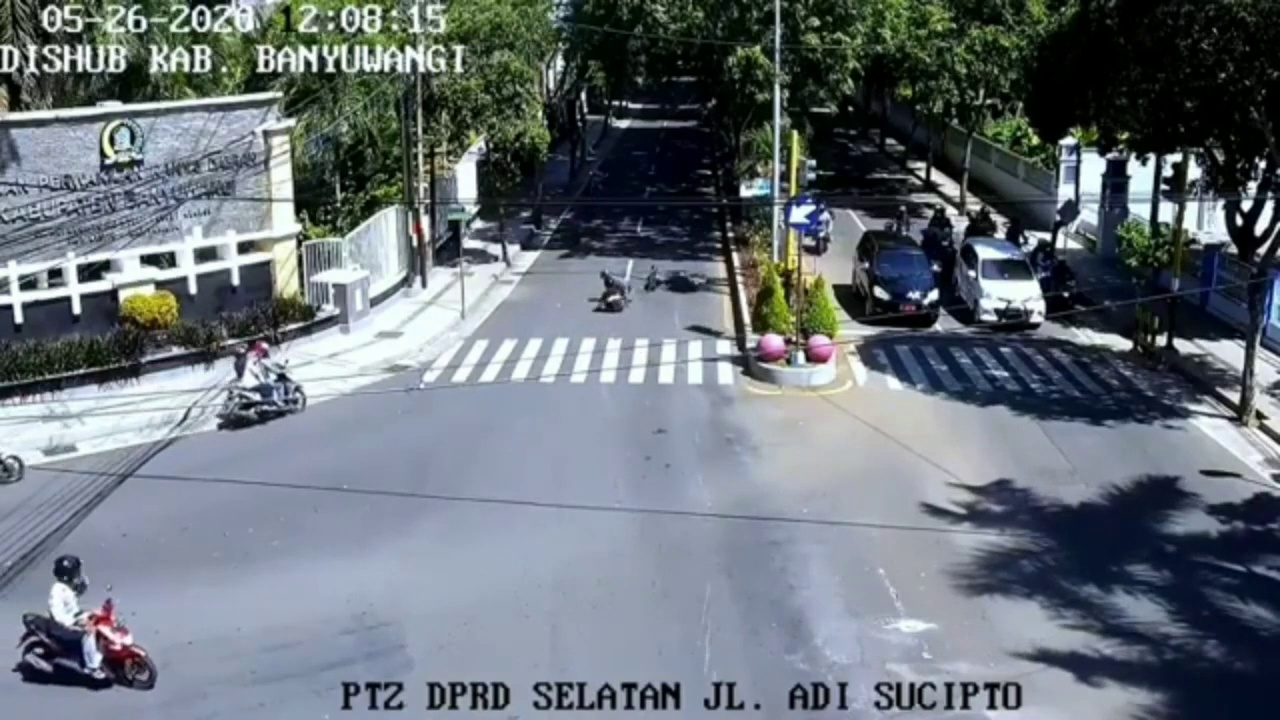car: (852, 231, 940, 340), (958, 235, 1045, 331)
motorbike: (17, 548, 155, 692), (224, 339, 303, 424), (815, 202, 832, 258)
